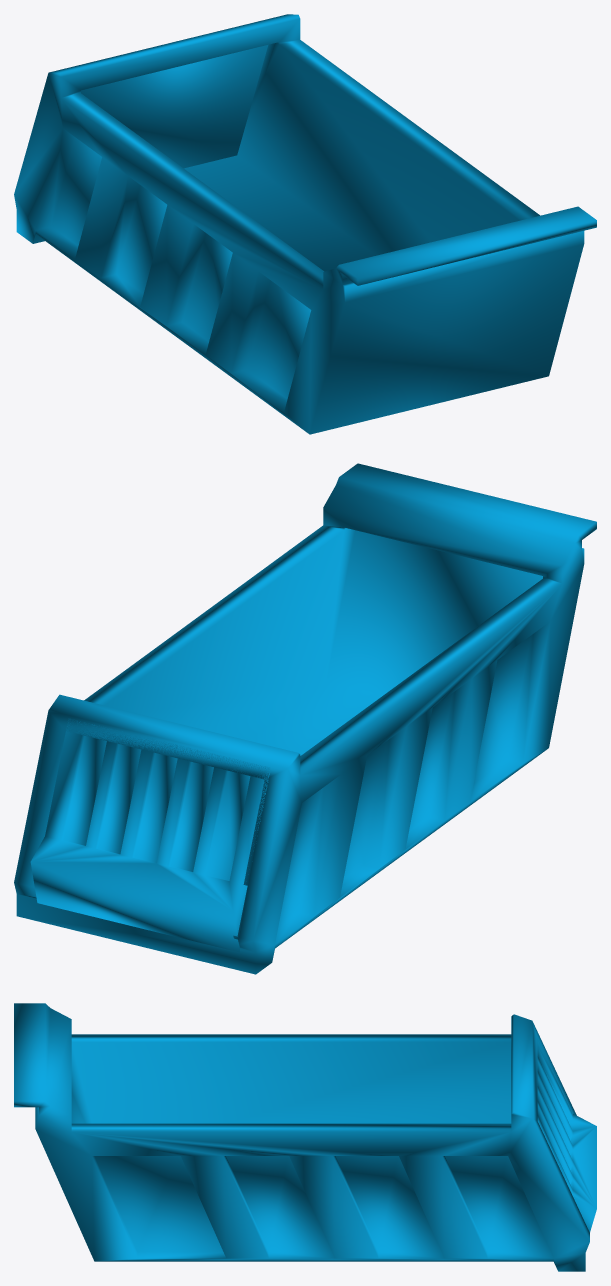
File: camion-8x4-mantgs26.benne.glb
3 views of the same model, one above another, from view 1: azimuth 30°, elevation 25°; view 2: azimuth 150°, elevation 25°; view 3: azimuth 270°, elevation 25° (orthographic). The views are drawn at different scales.
Bounding box in the file's own units: 2.5 × 2.05 × 6.3.
